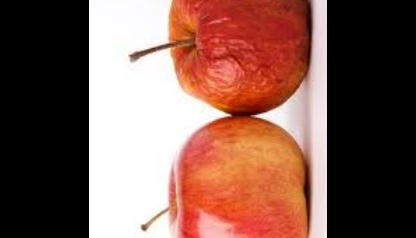defect: (135, 0, 312, 101)
